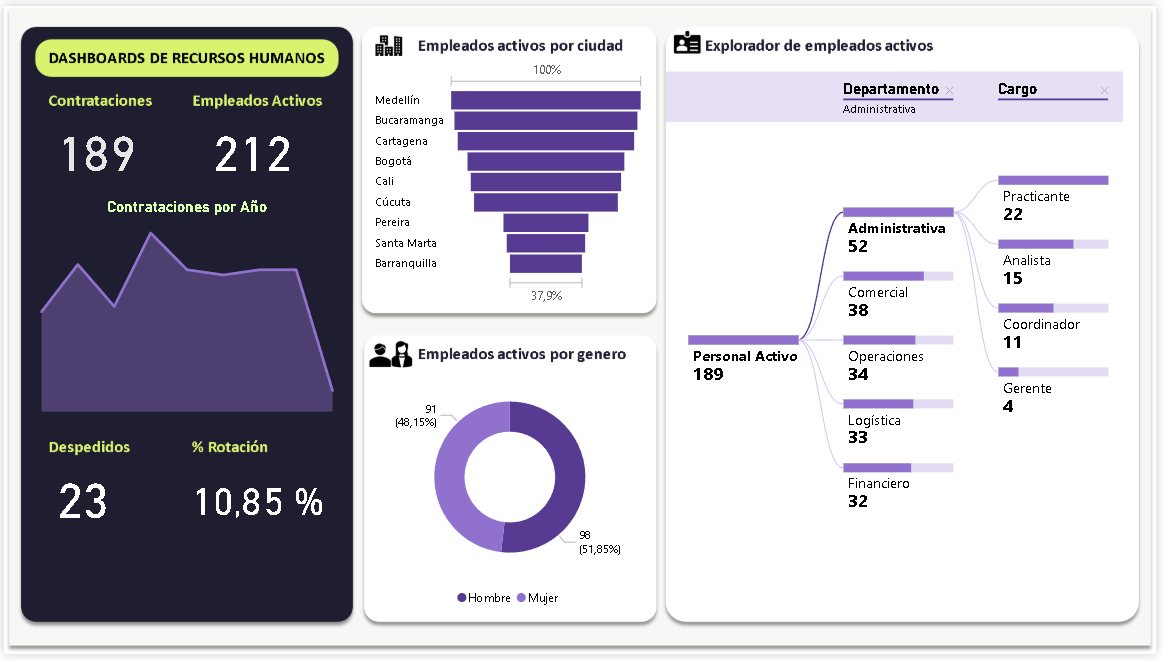

Layout of this report page (visuals, bound fields, positions):
{"tool":"powerbi","page":{"name":"Page 1","canvas":[1280,720],"ordinal":0},"visuals":[{"type":"cardVisual","fields":{"Data":["DataRH.% rotacion personal"]},"box":[192.2,490,187.8,111.1],"z":0},{"type":"cardVisual","fields":{"Data":["DataRH.Contrataciones"]},"box":[215.6,106.7,150,106.7],"z":1000},{"type":"cardVisual","fields":{"Data":["DataRH.Personal Activo"]},"box":[42.2,106.7,150,106.7],"z":2000},{"type":"cardVisual","fields":{"Data":["DataRH.Empleados Despedidos"]},"box":[42.2,490,150,111.1],"z":3000},{"type":"areaChart","title":"Contrataciones por Año","fields":{"Y":["DataRH.Contrataciones"],"Category":["DataRH.Fecha contratación.Variation.Date Hierarchy.Year"]},"box":[26.7,213.3,353.3,243.3],"z":4000},{"type":"funnel","fields":{"Y":["DataRH.Personal Activo"],"Category":["DataRH.Ciudad"]},"box":[406.2,55.4,310.8,280],"z":5000},{"type":"donutChart","fields":{"Y":["DataRH.Personal Activo"],"Category":["DataRH.Género"]},"box":[406.2,400,310.8,276.2],"z":6000},{"type":"decompositionTreeVisual","fields":{"Analyze":["DataRH.Personal Activo"],"ExplainBy":["DataRH.Departamento","DataRH.Cargo"]},"box":[735.6,67.8,513.3,596.7],"z":7000}]}

Visuals, with their boxes in screenshot pixels (x1, y1, x2, y2), scaled from the page's 1280x720 canvas onto the 1164x661 screenshot:
cardVisual - DataRH.% rotacion personal: [x1=175, y1=450, x2=346, y2=552]
cardVisual - DataRH.Contrataciones: [x1=196, y1=98, x2=332, y2=196]
cardVisual - DataRH.Personal Activo: [x1=38, y1=98, x2=175, y2=196]
cardVisual - DataRH.Empleados Despedidos: [x1=38, y1=450, x2=175, y2=552]
"Contrataciones por Año" areaChart: [x1=24, y1=196, x2=346, y2=419]
funnel - DataRH.Personal Activo x DataRH.Ciudad: [x1=369, y1=51, x2=652, y2=308]
donutChart - DataRH.Personal Activo x DataRH.Género: [x1=369, y1=367, x2=652, y2=621]
decompositionTreeVisual - DataRH.Personal Activo x DataRH.Departamento: [x1=669, y1=62, x2=1136, y2=610]
